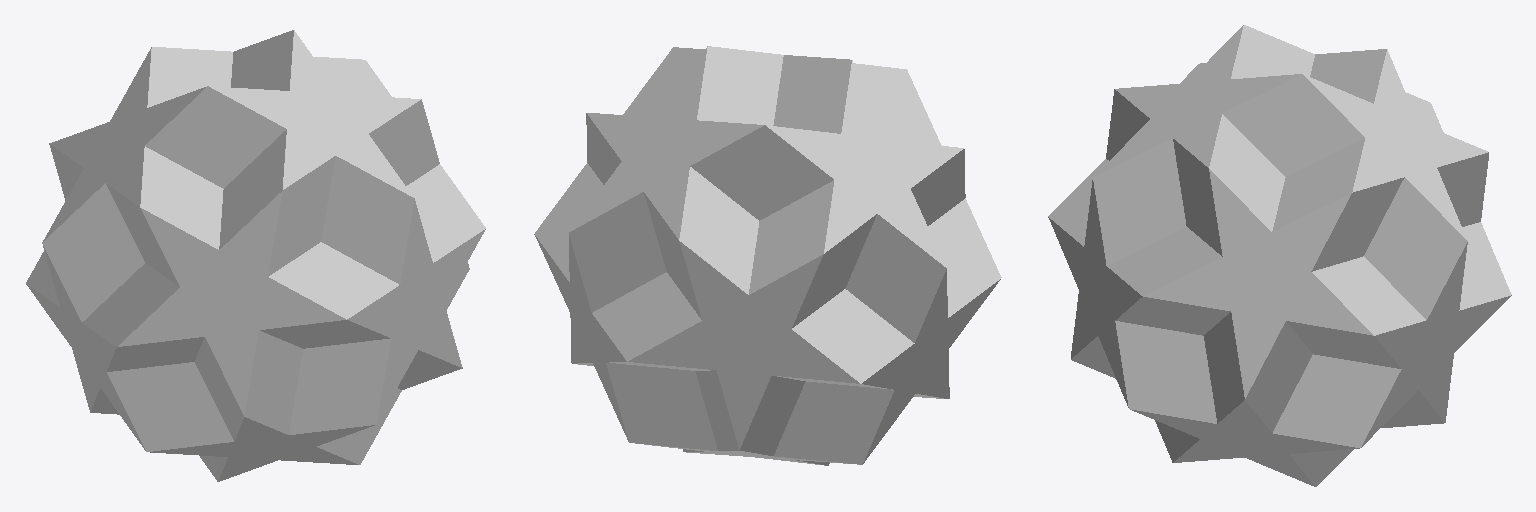
Rendered from Dodecadodecahedron.obj.
The picture shows the model from 3 angles: view 1: azimuth 30°, elevation 25°; view 2: azimuth 150°, elevation 25°; view 3: azimuth 270°, elevation 25°; orthographic projection.
Parts seen in each view (by area): view 1: DodecaDodecahedron; view 2: DodecaDodecahedron; view 3: DodecaDodecahedron.
Boxes of the visible parts, box(x1,y1,x2,y2) form: DodecaDodecahedron: box(26, 30, 485, 481); DodecaDodecahedron: box(534, 46, 1001, 465); DodecaDodecahedron: box(1048, 25, 1511, 486).
Size of the model in its own units: 3.78 by 3.79 by 3.87.